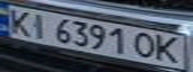1: (106, 25, 130, 55)
3: (69, 19, 90, 48)
6: (48, 16, 75, 45)
9: (87, 21, 109, 52)
I: (24, 11, 54, 40)
K: (151, 34, 184, 64), (3, 7, 36, 36)
O: (130, 29, 160, 60)
